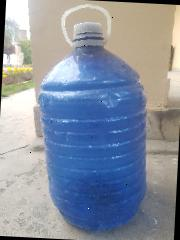plastic: (31, 1, 156, 232)
